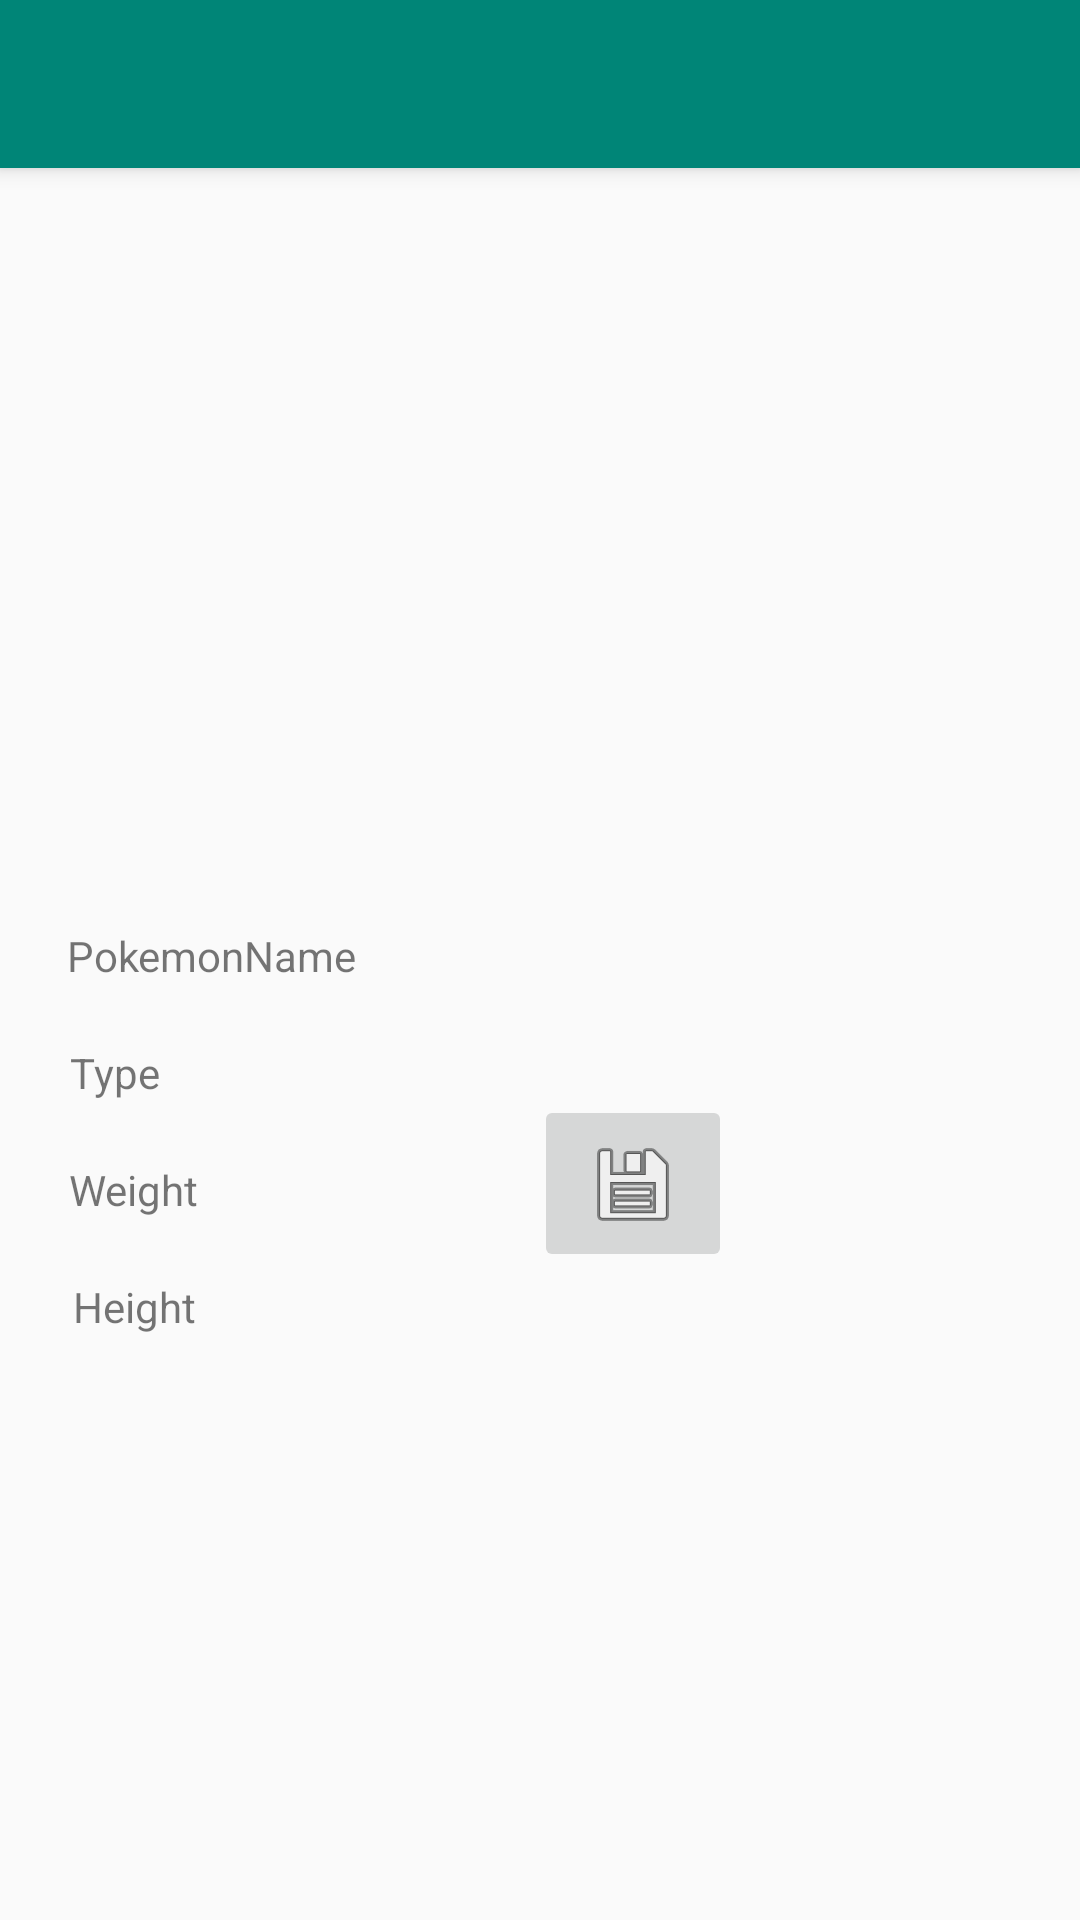

Where icons sit on this 1080*1920 app screen, as (x1,y1,x2,y2):
save: (546,1113,720,1254)
